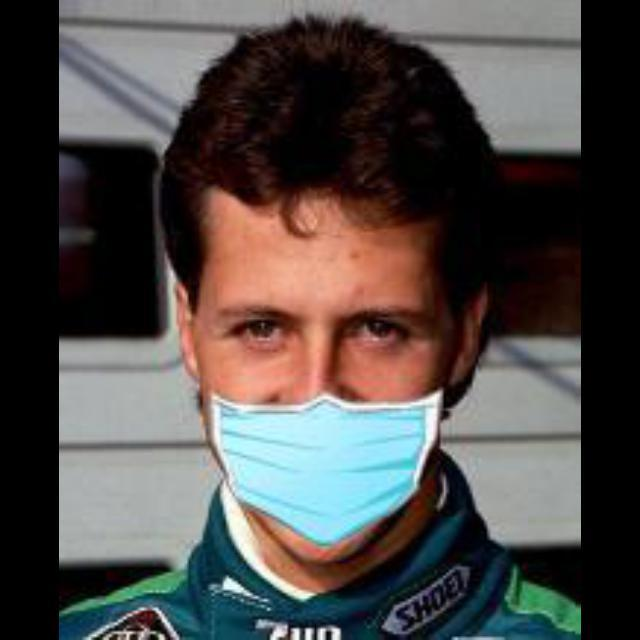suspicion: (148, 91, 486, 554)
